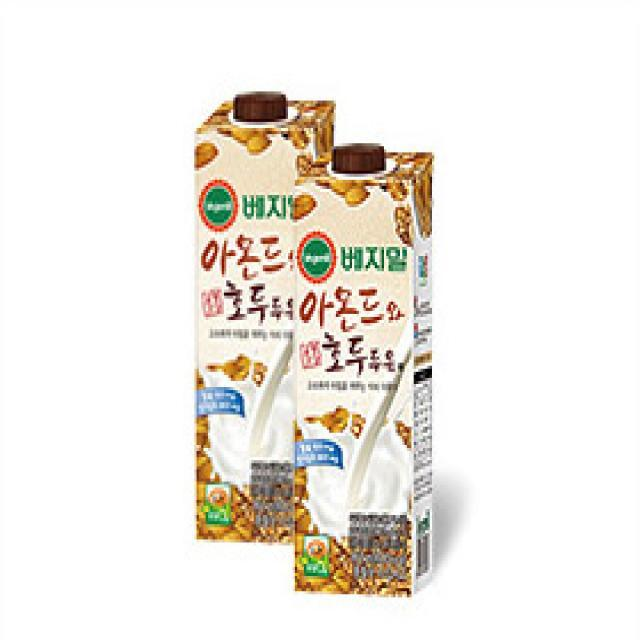Tetra: (189, 94, 338, 551), (292, 149, 438, 600)
